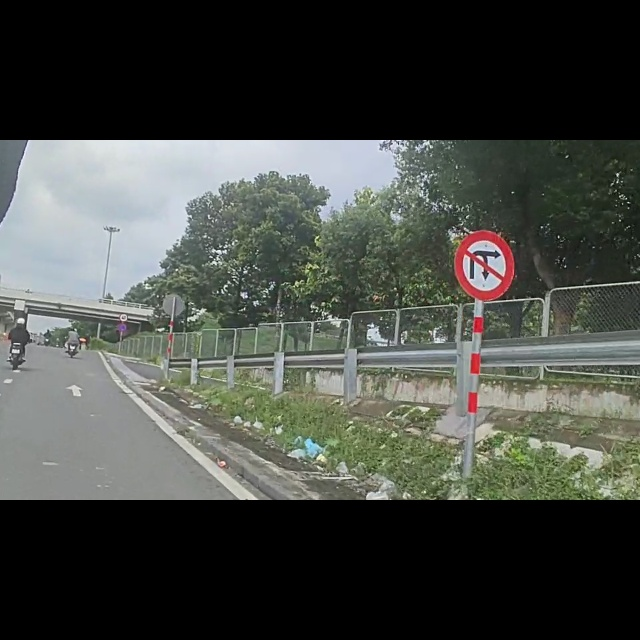bien_cam: (455, 161, 515, 287), (119, 307, 129, 324), (118, 325, 127, 341)
